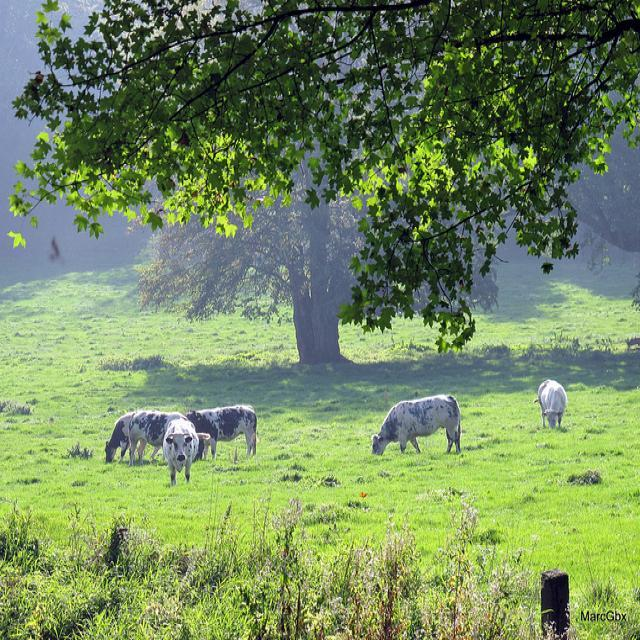cow: (370, 393, 459, 455), (186, 402, 255, 457), (128, 410, 184, 463), (163, 420, 197, 484), (537, 377, 565, 427), (104, 411, 132, 461)
